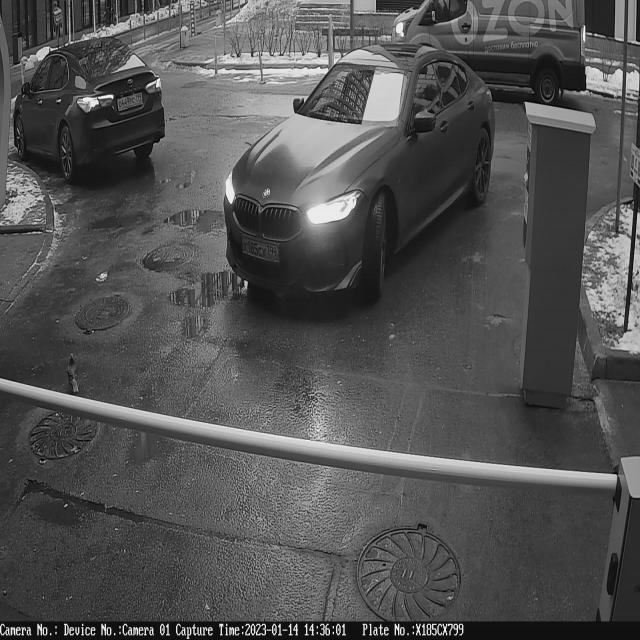car-plate-numbers: (240, 233, 283, 268)
